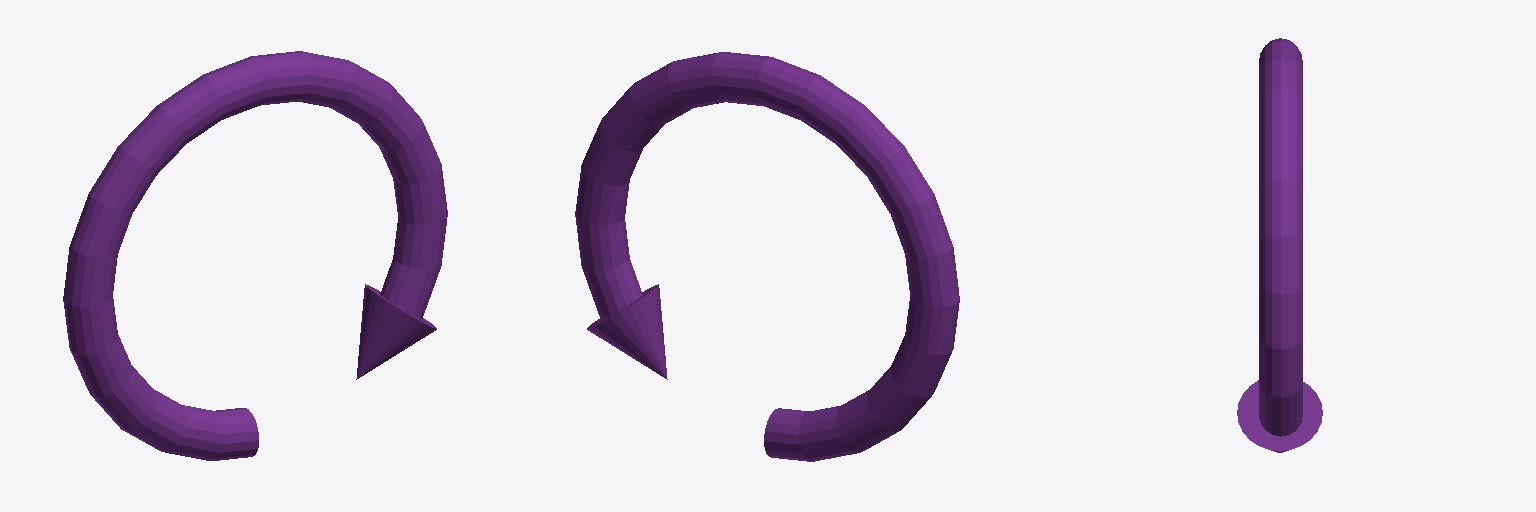
The model's file is tinker.obj.
3 views of the same model, side by side, from view 1: azimuth 30°, elevation 25°; view 2: azimuth 150°, elevation 25°; view 3: azimuth 270°, elevation 25° (orthographic).
Parts seen in each view (by area): view 1: obj_0; view 2: obj_0; view 3: obj_0.
Part boxes in pixels (x1,y1,x2,y2): obj_0: (63, 51, 447, 460); obj_0: (575, 52, 959, 461); obj_0: (1237, 38, 1322, 452).
Bounding box in the file's own units: 51 × 50.87 × 10.